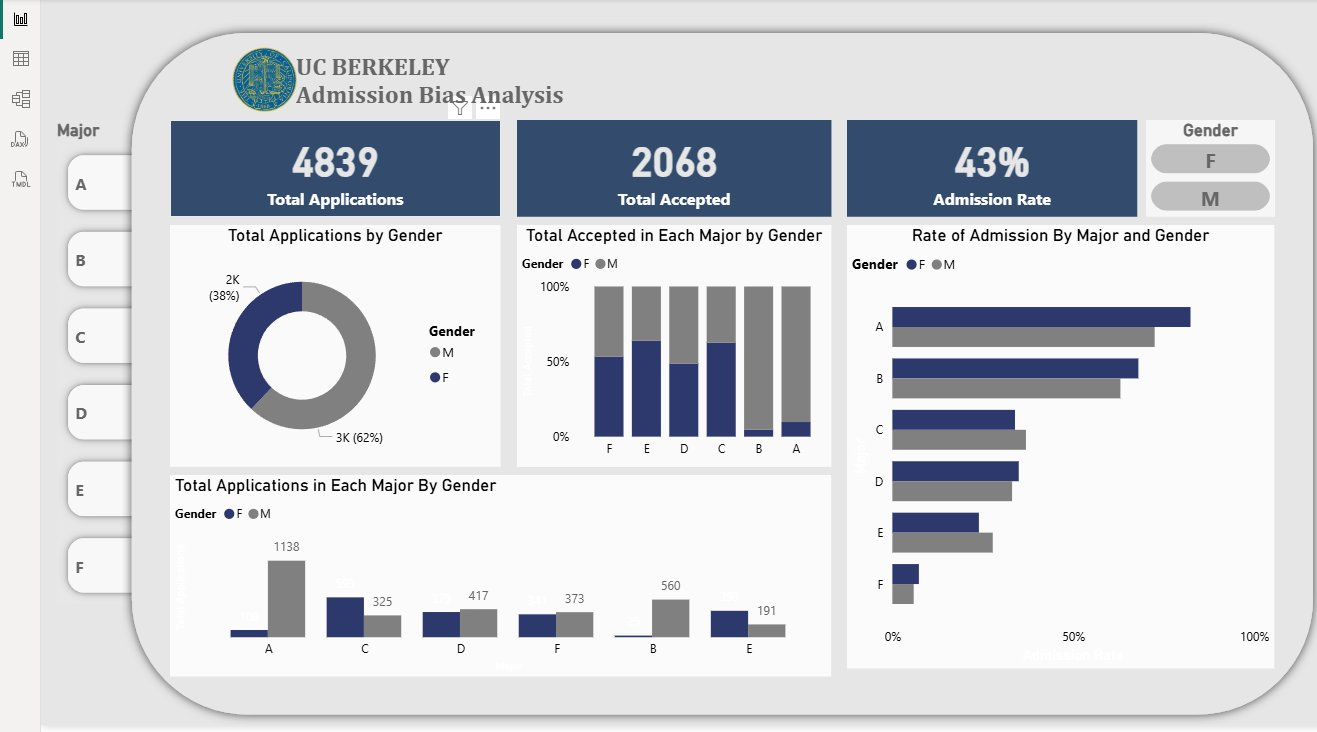

This screenshot's page, from the dashboard's own definition file:
{"tool":"powerbi","page":{"name":"Analysis Dashboard","canvas":[1280,720],"ordinal":0},"visuals":[{"type":"advancedSlicerVisual","fields":{"Values":["AdmissionsData.Major"]},"box":[16,120,128.8,480],"z":0,"group":"g1"},{"type":"shape","box":[80.4,24,1191.6,696],"z":1000,"group":"g1"},{"type":"group","id":"g1","title":"Group 1","box":[16,24,1256,696],"z":1500},{"type":"card","fields":{"Values":["AdmissionsData.Total Applications"]},"box":[128,120,328,96],"z":2000},{"type":"card","fields":{"Values":["AdmissionsData.Total Accepted"]},"box":[472,120,312,96],"z":3000},{"type":"card","fields":{"Values":["AdmissionsData.Admission Rate"]},"box":[800,120,288,96],"z":4000},{"type":"advancedSlicerVisual","fields":{"Values":["AdmissionsData.Gender"]},"box":[1096,120,128,96],"z":5000},{"type":"donutChart","fields":{"Category":["AdmissionsData.Gender"],"Y":["AdmissionsData.Total Applications"]},"box":[128,224,328,240],"z":6000},{"type":"hundredPercentStackedColumnChart","title":"Total Accepted in Each Major by Gender","fields":{"Category":["AdmissionsData.Major"],"Y":["AdmissionsData.Total Accepted"],"Series":["AdmissionsData.Gender"]},"box":[472,224,312,240],"z":7000},{"type":"clusteredBarChart","title":"Rate of Admission By Major and Gender","fields":{"Y":["AdmissionsData.Admission Rate"],"Category":["AdmissionsData.Major"],"Series":["AdmissionsData.Gender"]},"box":[800,224,424,440],"z":8000},{"type":"clusteredColumnChart","title":"Total Applications in Each Major By Gender","fields":{"Category":["AdmissionsData.Major"],"Y":["AdmissionsData.Total Applications"],"Series":["AdmissionsData.Gender"]},"box":[128,472,656,200],"z":9000},{"type":"image","box":[176,48,96,64],"z":10000},{"type":"textbox","box":[248,48,384,72],"z":11000}]}

Visuals, with their boxes on the page's 1280x720 design canvas (x1, y1, x2, y2). These are canvas units, not pixel positions in the 1317x732 screenshot, which may show the page scaled, cropped or inside an application window:
advancedSlicerVisual - AdmissionsData.Major: [left=16, top=120, right=145, bottom=600]
shape: [left=80, top=24, right=1272, bottom=720]
"Group 1" group: [left=16, top=24, right=1272, bottom=720]
card - AdmissionsData.Total Applications: [left=128, top=120, right=456, bottom=216]
card - AdmissionsData.Total Accepted: [left=472, top=120, right=784, bottom=216]
card - AdmissionsData.Admission Rate: [left=800, top=120, right=1088, bottom=216]
advancedSlicerVisual - AdmissionsData.Gender: [left=1096, top=120, right=1224, bottom=216]
donutChart - AdmissionsData.Gender x AdmissionsData.Total Applications: [left=128, top=224, right=456, bottom=464]
"Total Accepted in Each Major by Gender" hundredPercentStackedColumnChart: [left=472, top=224, right=784, bottom=464]
"Rate of Admission By Major and Gender" clusteredBarChart: [left=800, top=224, right=1224, bottom=664]
"Total Applications in Each Major By Gender" clusteredColumnChart: [left=128, top=472, right=784, bottom=672]
image: [left=176, top=48, right=272, bottom=112]
textbox: [left=248, top=48, right=632, bottom=120]
